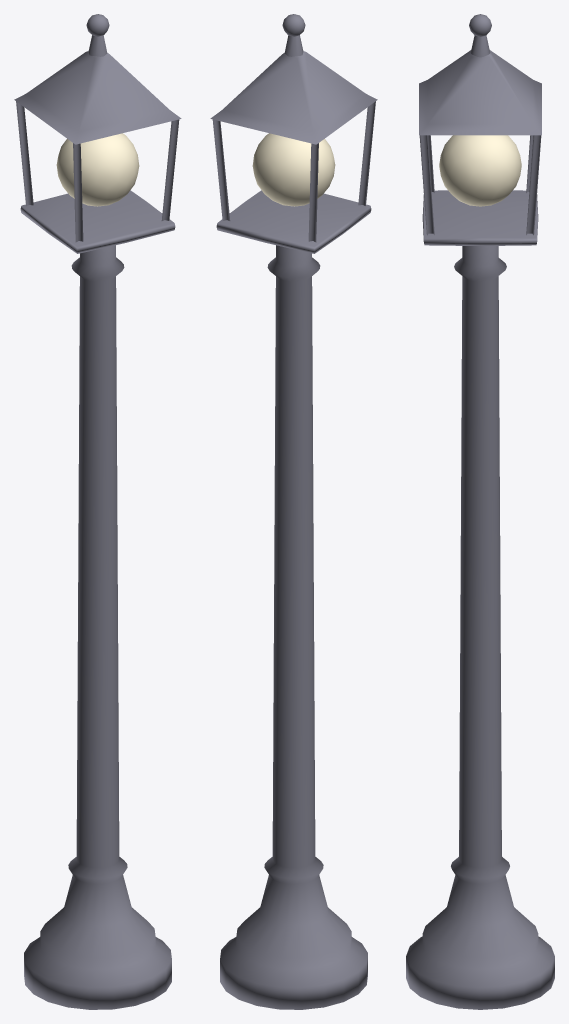
The model's file is LampPost.glb.
3 views of the same model, side by side, from view 1: azimuth 30°, elevation 25°; view 2: azimuth 150°, elevation 25°; view 3: azimuth 270°, elevation 25° (orthographic).
Parts seen in each view (by area): view 1: Pole, Lamp; view 2: Pole, Lamp; view 3: Pole, Lamp.
Boxes of the visible parts, box(x1,y1,x2,y2) form: Pole: box(14, 14, 181, 1009); Lamp: box(56, 133, 139, 206); Pole: box(210, 14, 377, 1009); Lamp: box(252, 133, 335, 206); Pole: box(406, 14, 554, 1009); Lamp: box(439, 135, 521, 206).
Bounding box in the file's own units: 1.8 × 12.86 × 1.8.
